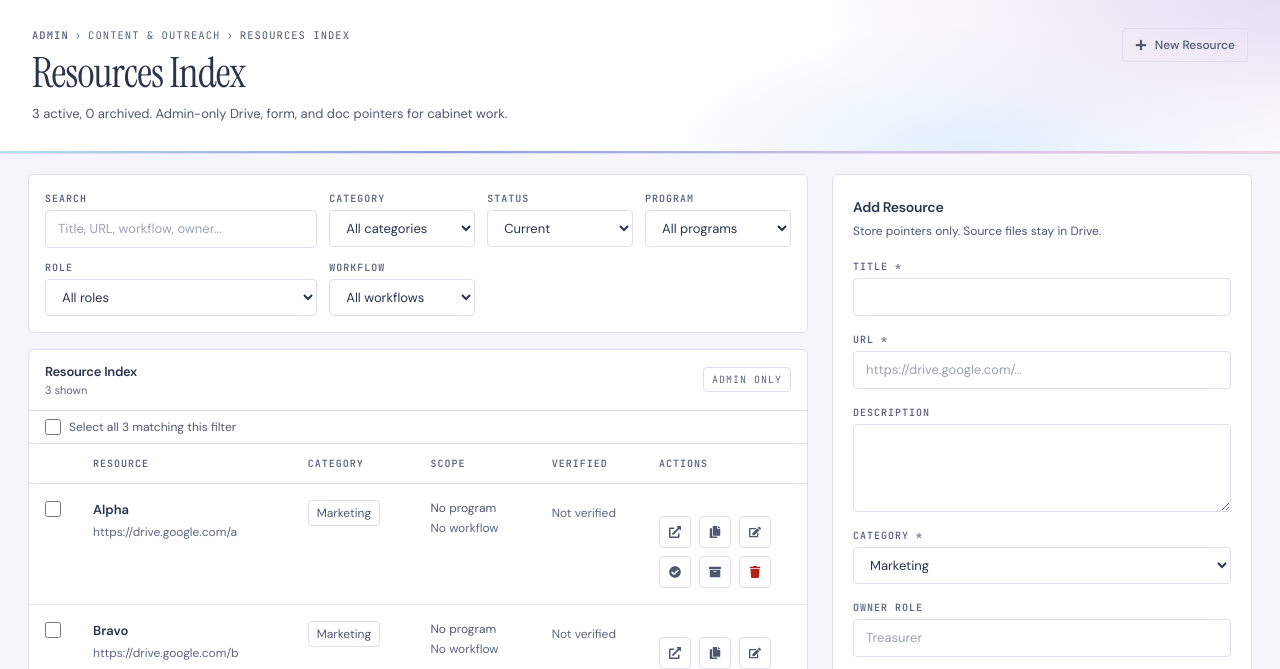
Test case: Resources bulk archive / restore › select-all states the resolved count and selects every matching resource
This screenshot has width=1280, height=669.
Click the checkbox labelled "Select all 3 matching this filter" at coordinates (53, 427), box x1=45 y1=419 x2=61 y2=435
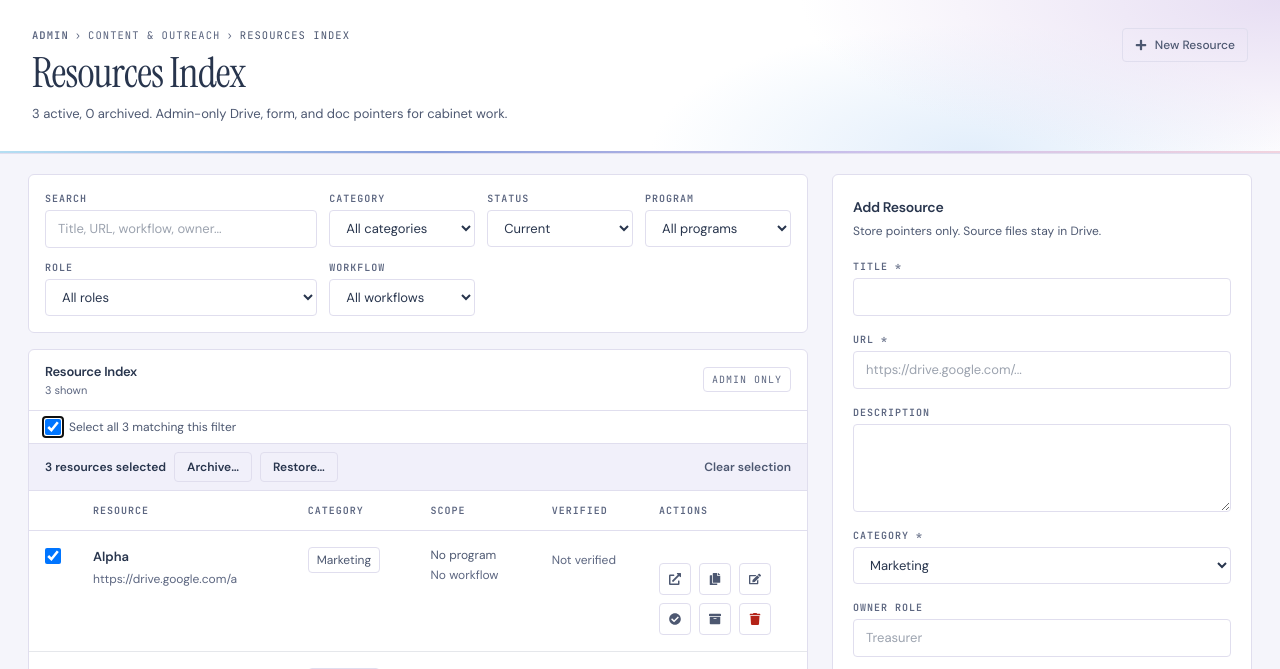
Now the text "3 resources selected" is shown, box x1=45 y1=459 x2=166 y2=475
Click the button "Clear selection" at coordinates (748, 467), box x1=704 y1=459 x2=791 y2=475
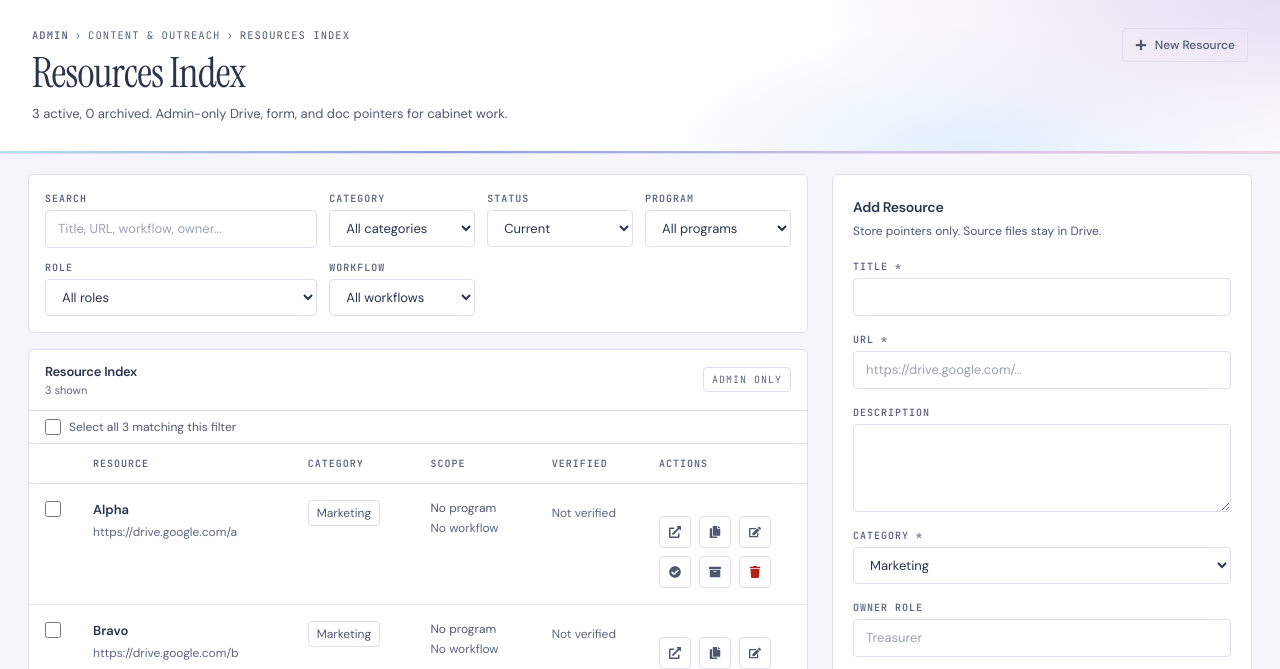
Now the text "resources selected" is gone
